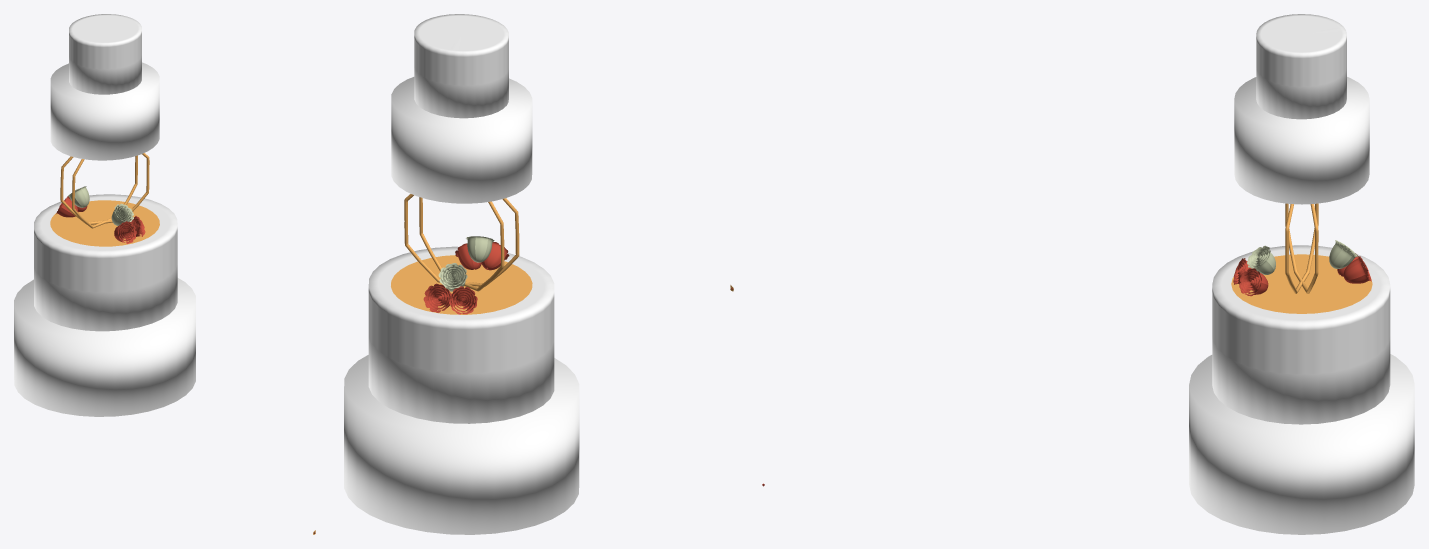
Rendered from cake.glb.
3 views of the same model, side by side, from view 1: azimuth 30°, elevation 25°; view 2: azimuth 150°, elevation 25°; view 3: azimuth 270°, elevation 25° (orthographic). The views are drawn at different scales.
Parts seen in each view (by area): view 1: Bot, MidBot, MidTop, Top, Separator, Flower Bud.002, Flower Bud.005; view 2: Bot, MidBot, MidTop, Top, Separator, Flower Bud.006, Flower Bud.007, Flower Bud.008, Flower Bud.005; view 3: Bot, MidBot, MidTop, Top, Separator.
Boxes of the visible parts, x1=… form: Bot: x1=14, y1=278, x2=195, y2=416; MidBot: x1=34, y1=194, x2=177, y2=331; MidTop: x1=50, y1=62, x2=159, y2=160; Top: x1=69, y1=14, x2=141, y2=94; Separator: x1=50, y1=153, x2=159, y2=246; Flower Bud.002: x1=114, y1=221, x2=136, y2=243; Flower Bud.005: x1=111, y1=203, x2=133, y2=225; Bot: x1=344, y1=355, x2=579, y2=534; MidBot: x1=368, y1=246, x2=554, y2=423; MidTop: x1=391, y1=77, x2=532, y2=203; Top: x1=414, y1=14, x2=508, y2=118; Separator: x1=391, y1=194, x2=532, y2=314; Flower Bud.006: x1=449, y1=286, x2=477, y2=314; Flower Bud.007: x1=423, y1=283, x2=452, y2=312; Flower Bud.008: x1=438, y1=263, x2=467, y2=291; Flower Bud.005: x1=466, y1=236, x2=494, y2=262; Bot: x1=1189, y1=354, x2=1414, y2=534; MidBot: x1=1212, y1=245, x2=1390, y2=424; MidTop: x1=1234, y1=77, x2=1369, y2=204; Top: x1=1256, y1=14, x2=1346, y2=119; Separator: x1=1231, y1=203, x2=1372, y2=313.
Size of the model in its own units: 1.34 by 2.83 by 3.69.
